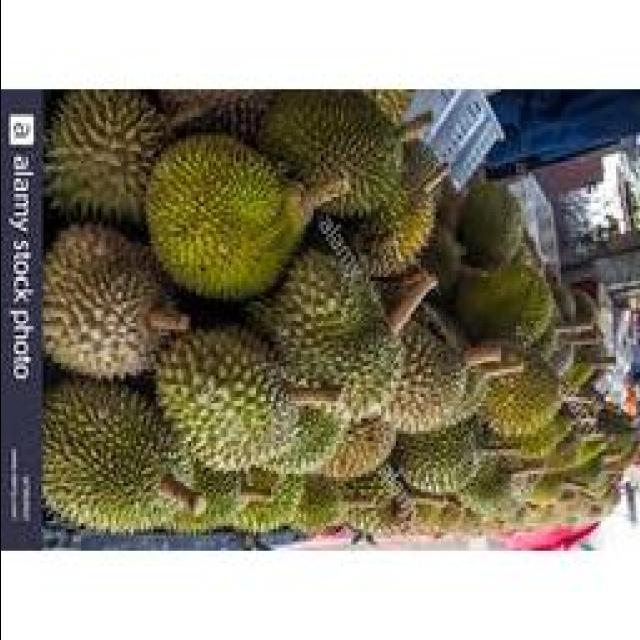fruit: (122, 304, 320, 492), (18, 209, 192, 397), (128, 123, 300, 311), (18, 89, 182, 240), (460, 350, 575, 450)
